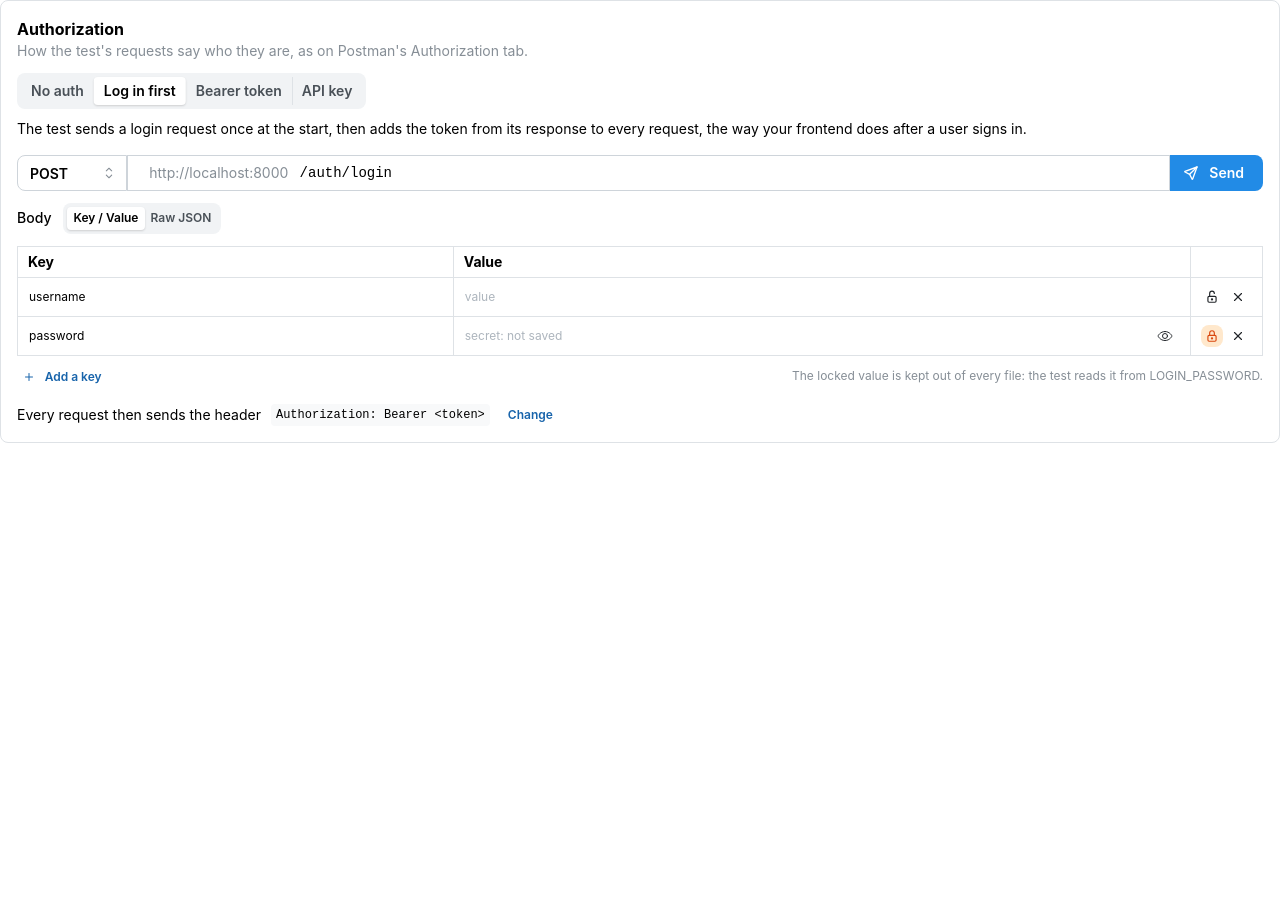
Test case: the Authorization panel › builds the login body from Key/Value rows, the locked one kept apart
Type "test@example.com" into the field named "value of username".
click(822, 297); type("test@example.com")  # box [464,282,1180,312]
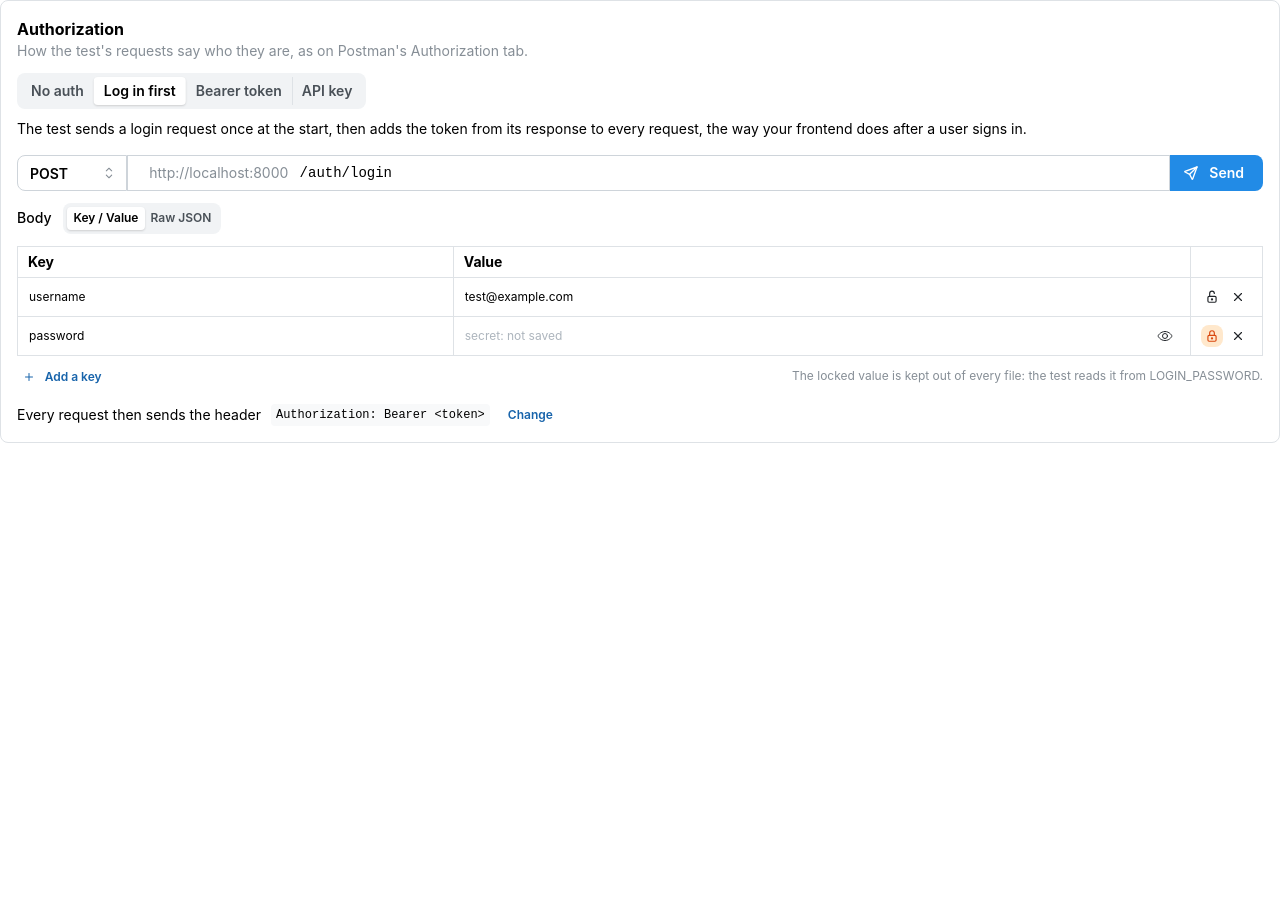
Type "s3cret" into the password field named "value of password".
click(822, 336); type("s3cret")  # box [465,322,1179,350]
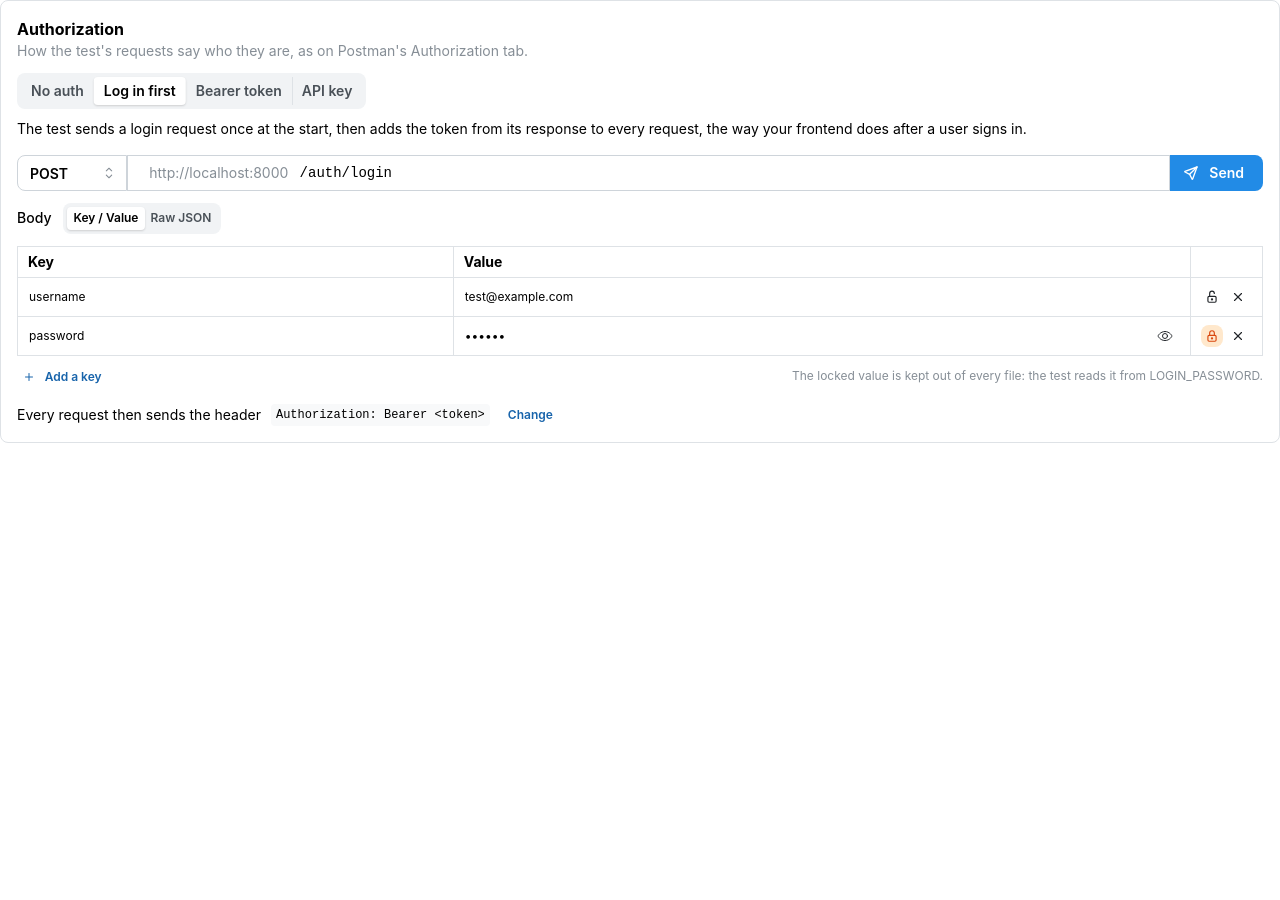
Click the button "Send".
click(1217, 173)  # box [1170,155,1263,191]
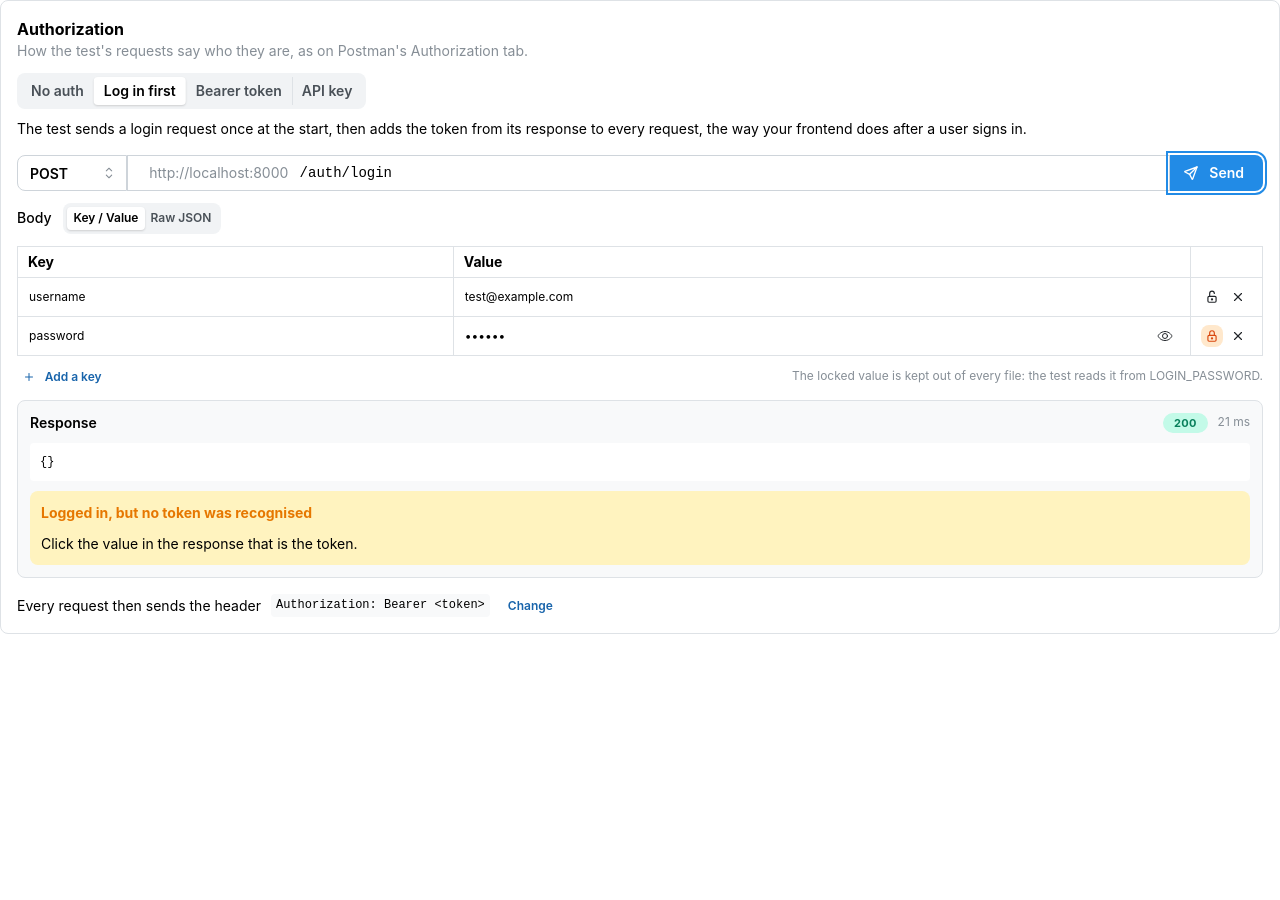
Check: the text "Response" is shown, box [30,413,97,433]
